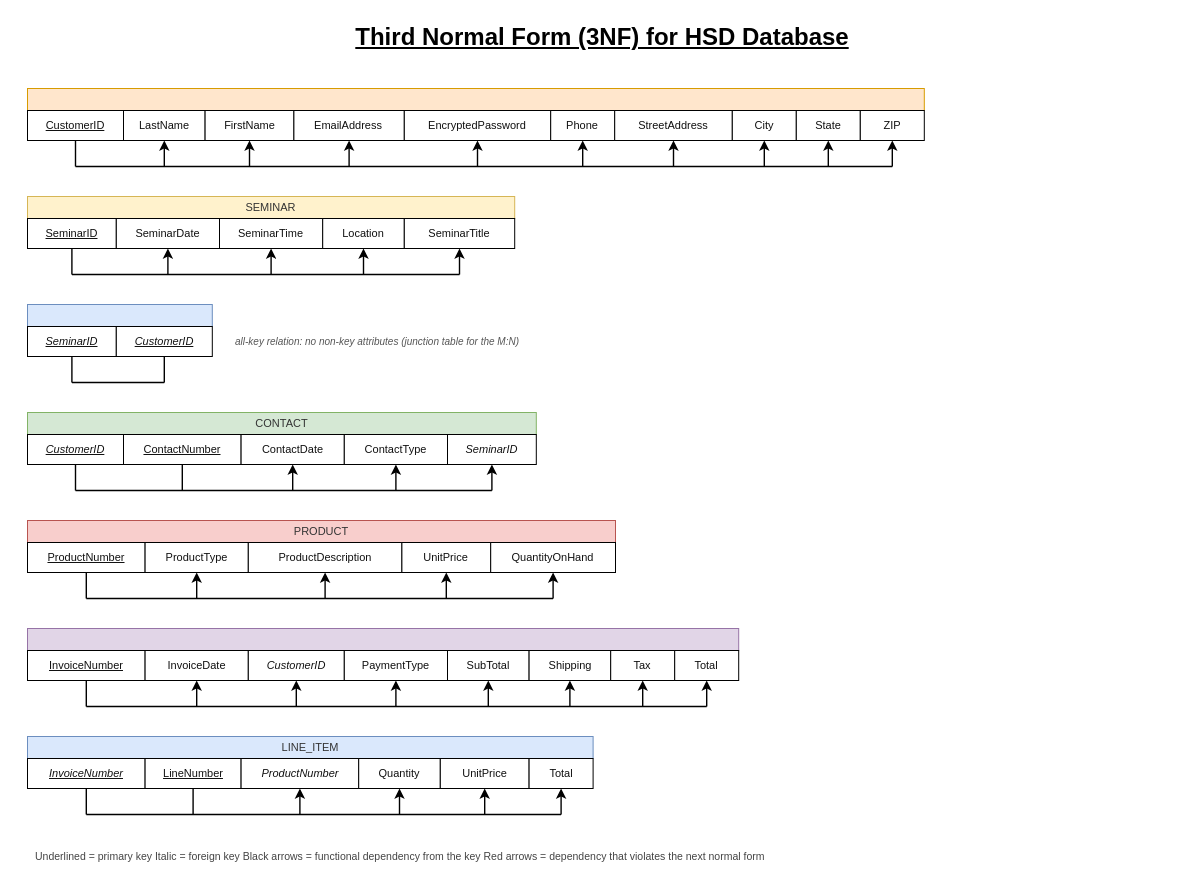
This 1204x885 diagram has some shape labels left out. The box of each missing label's shape, as (x1, y1, x2, y2) in pixels:
CUSTOMER: (26, 88, 924, 110)
INVOICE: (26, 628, 739, 650)
SEMINAR_CUSTOMER: (26, 304, 212, 326)
